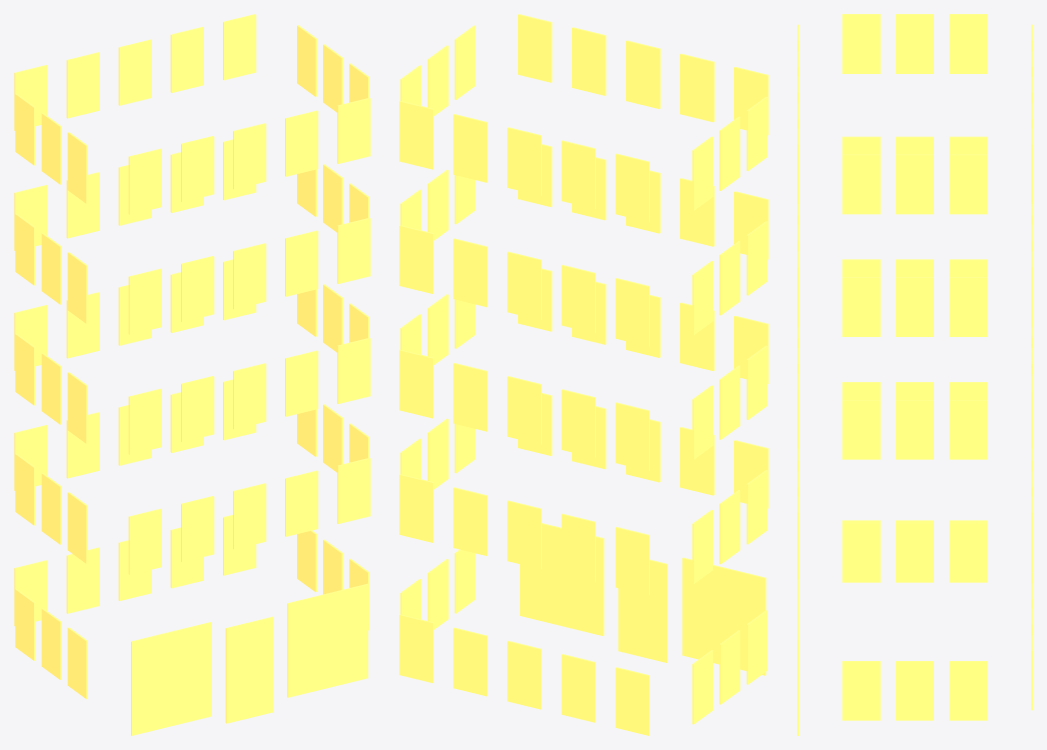
File: Apartment_Cream_Glow.glb
3 renders of one model, left to right at view 1: azimuth 30°, elevation 25°; view 2: azimuth 150°, elevation 25°; view 3: azimuth 270°, elevation 25°, orthographic. The views are drawn at different scales.
Visible parts, largest first — view 1: Apartment_Cream_Glow; view 2: Apartment_Cream_Glow; view 3: Apartment_Cream_Glow.
Part boxes in pixels (box(x1,y1,x2,y2)): Apartment_Cream_Glow: box(14, 14, 370, 735); Apartment_Cream_Glow: box(399, 14, 768, 735); Apartment_Cream_Glow: box(797, 14, 1032, 735).
Bounding box in the file's own units: 27.16 × 54.1 × 19.16.
